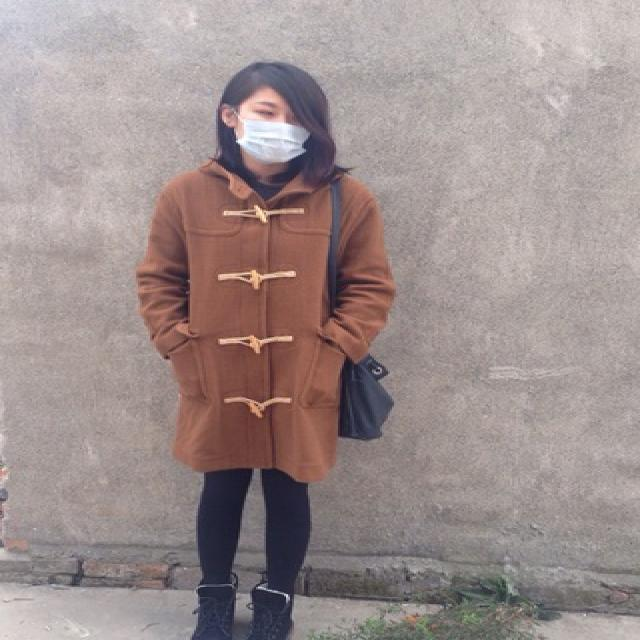mask: (236, 87, 304, 163)
